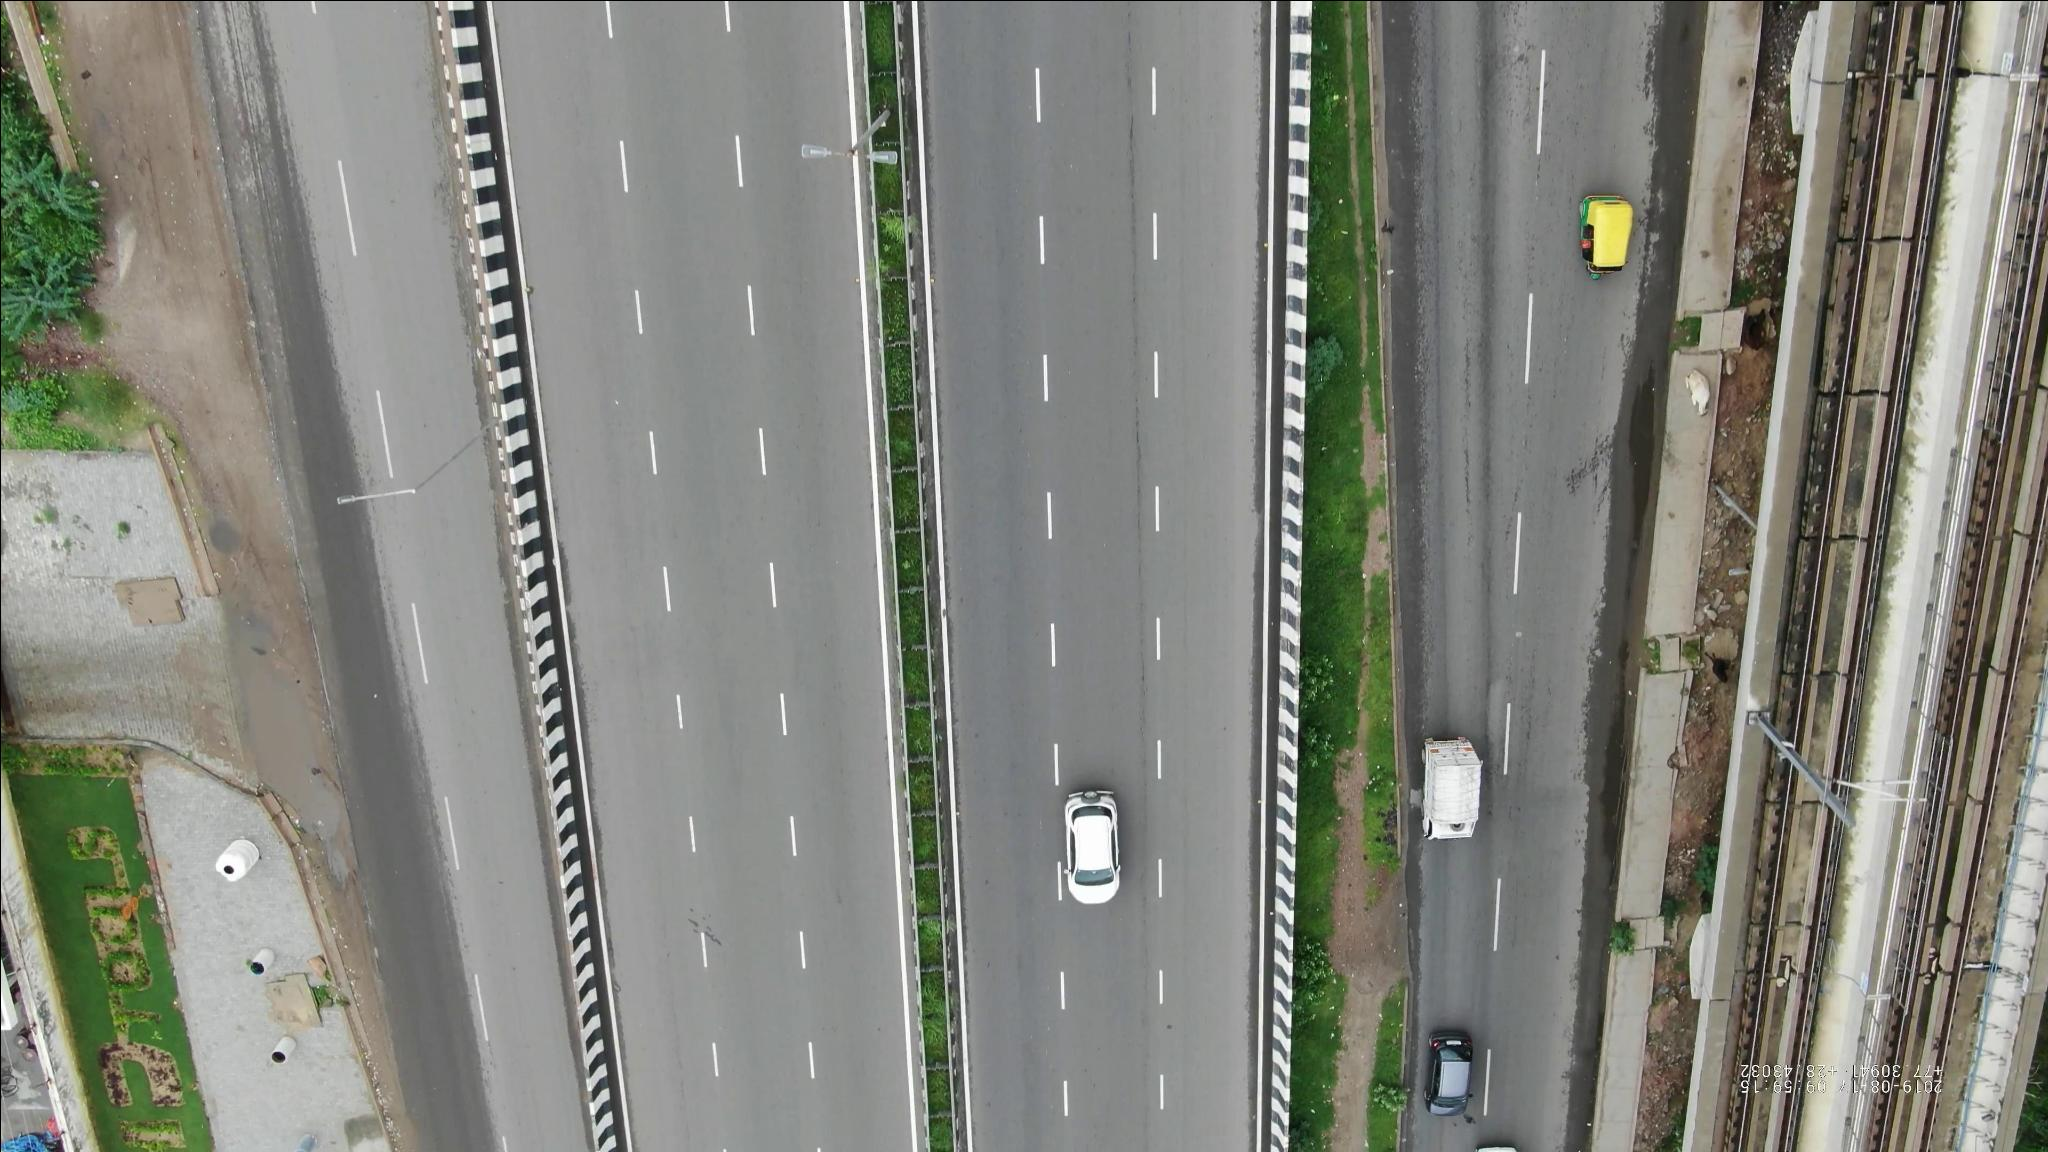Muddy_road: (218, 532, 367, 909), (329, 940, 422, 1145)
